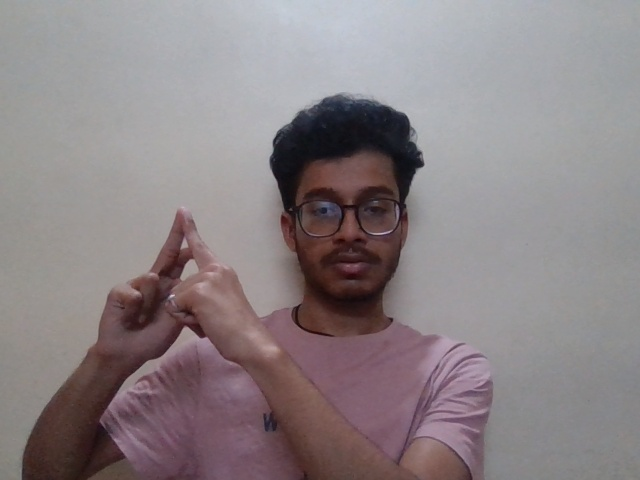A: (75, 197, 294, 387)
